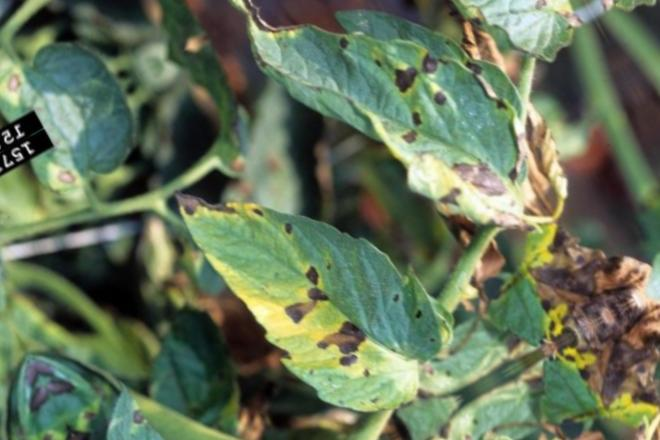Tomato Early blight leaf: (164, 123, 477, 440), (244, 0, 565, 298)
